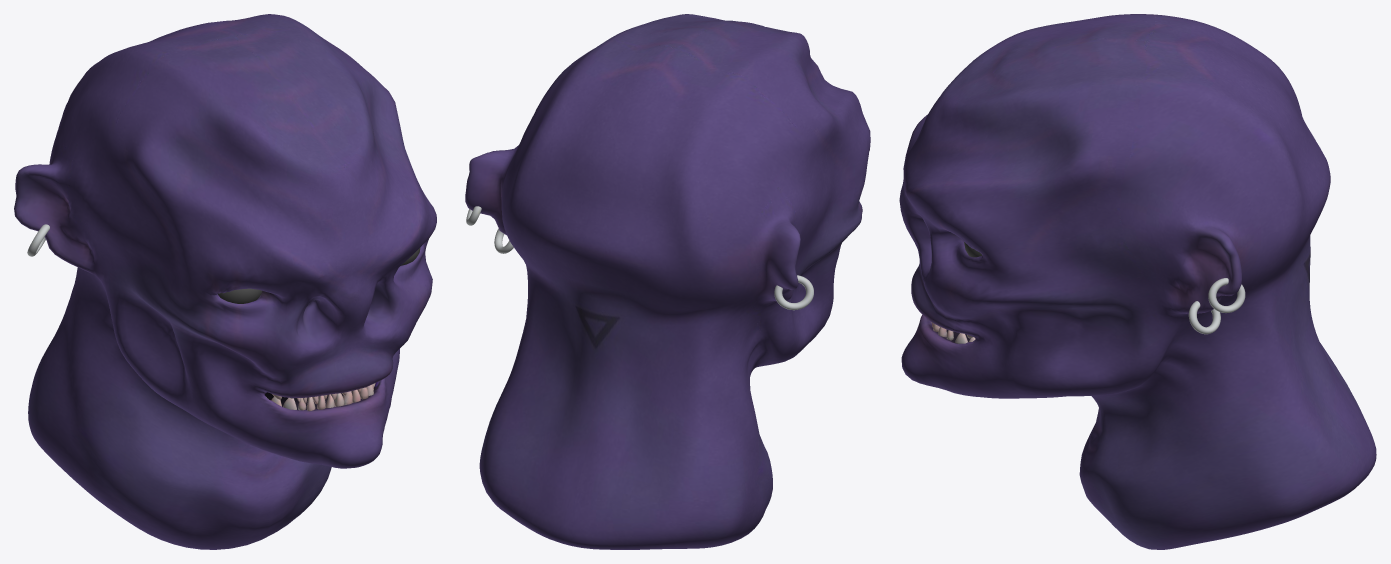
Rendered from alien1full-compressed.glb.
3 views of the same model, side by side, from view 1: azimuth 30°, elevation 25°; view 2: azimuth 150°, elevation 25°; view 3: azimuth 270°, elevation 25° (orthographic). The views are drawn at different scales.
Visible parts, largest first — view 1: defaultMaterial.002; view 2: defaultMaterial.002; view 3: defaultMaterial.002.
Part boxes in pixels (<box>): defaultMaterial.002: <box>14,14,436,549</box>; defaultMaterial.002: <box>465,14,870,549</box>; defaultMaterial.002: <box>899,14,1376,549</box>.
Size of the model in its own units: 0.7731 by 1.06 by 0.9247.
1 material, 1 textured.
